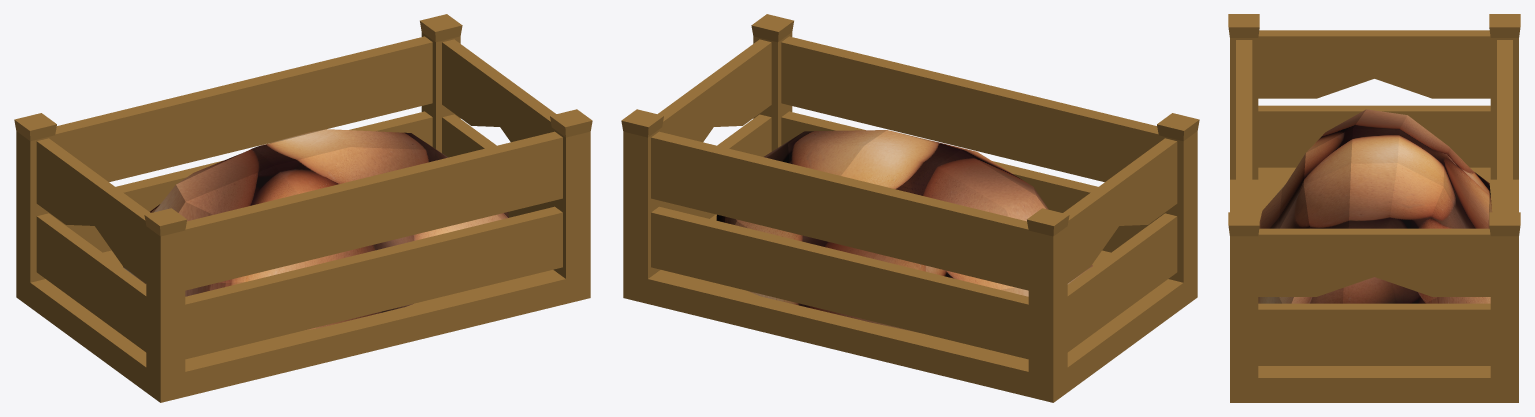
File: IngredientBox.fbx
3 views of the same model, side by side, from view 1: azimuth 30°, elevation 25°; view 2: azimuth 150°, elevation 25°; view 3: azimuth 270°, elevation 25° (orthographic).
Visible parts, largest first — view 1: Basket, Roundcube; view 2: Basket, Roundcube; view 3: Basket, Roundcube.
Boxes of the visible parts, x1,y1,x2,y2 form: Basket: (14,14,592,402); Roundcube: (123,129,508,329); Basket: (621,14,1199,402); Roundcube: (716,130,1092,332); Basket: (1228,14,1520,402); Roundcube: (1258,109,1492,303).
Size of the model in its own units: 905 by 355 by 528.
